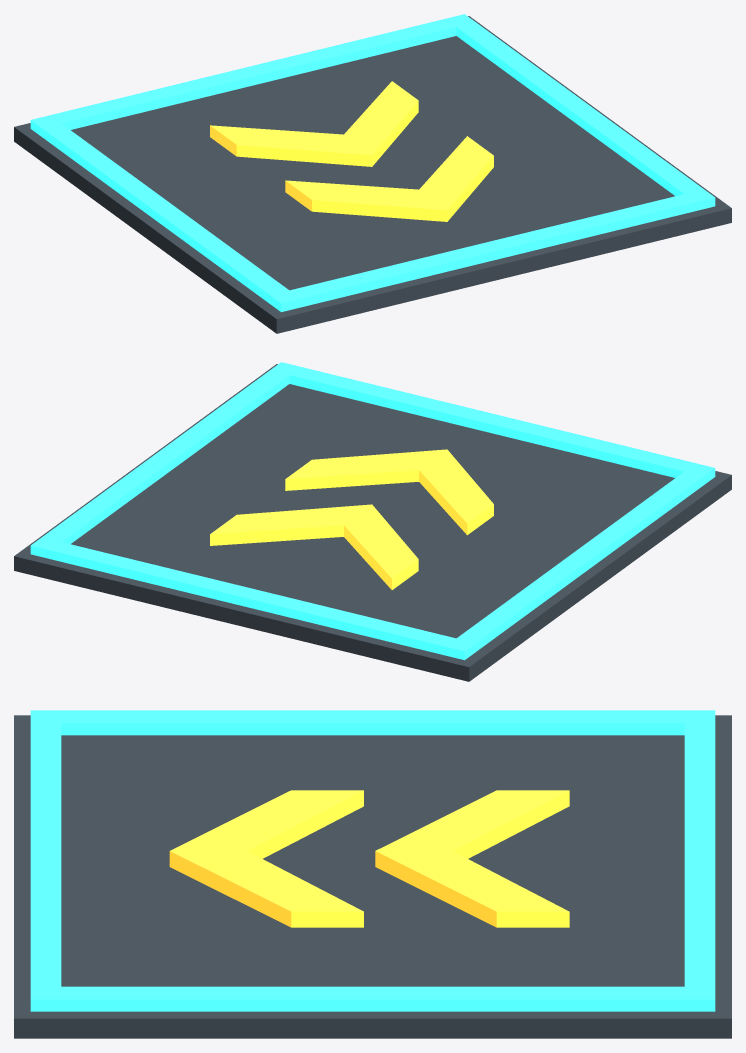
The model's file is charge-pad.gltf.
The picture shows the model from 3 angles, top to bottom: view 1: azimuth 30°, elevation 25°; view 2: azimuth 150°, elevation 25°; view 3: azimuth 270°, elevation 25°; orthographic projection. The views are drawn at different scales.
Size of the model in its own units: 3.25 by 0.18 by 3.25.
